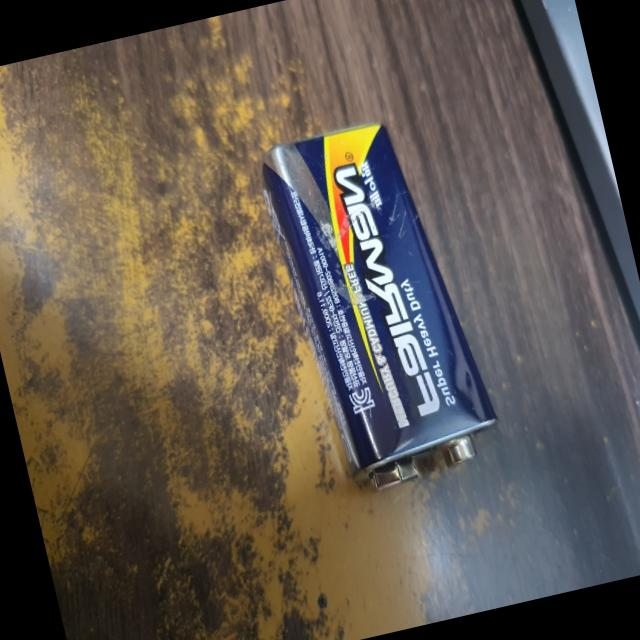battery-etc-etc: (248, 100, 514, 516)
